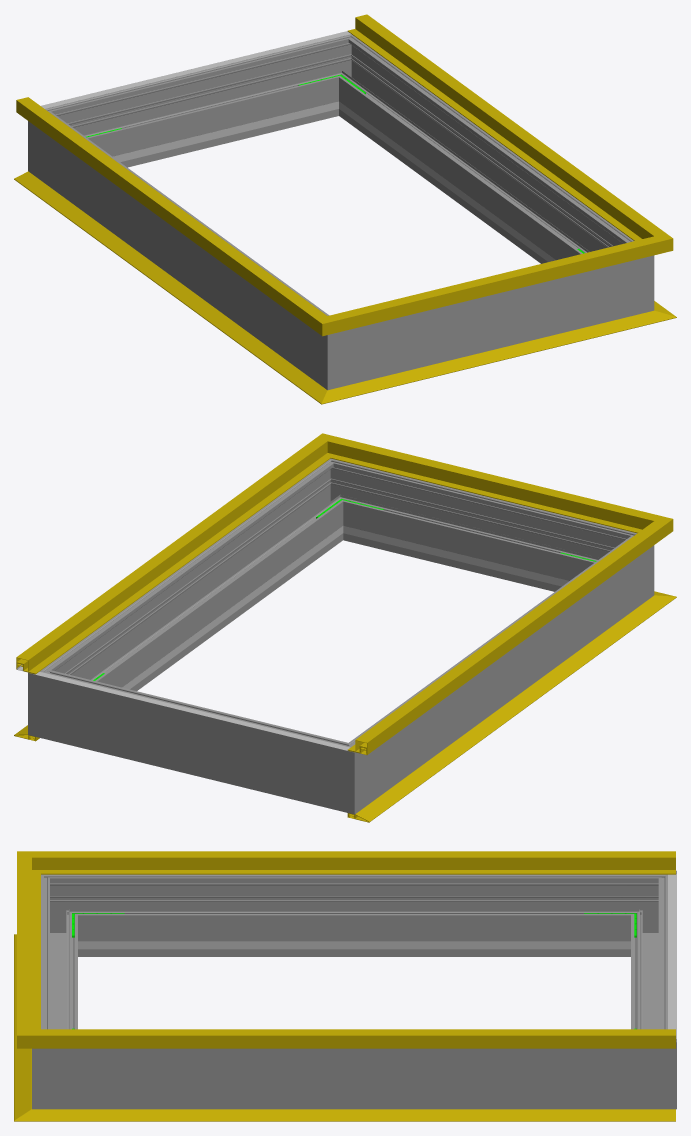
The picture shows the model from 3 angles, top to bottom: view 1: azimuth 30°, elevation 25°; view 2: azimuth 150°, elevation 25°; view 3: azimuth 270°, elevation 25°; orthographic projection. The views are drawn at different scales.
Parts seen in each view (by area): view 1: 3DGeom-298, 3DGeom-277, 3DGeom-269, 3DGeom-299, 3DGeom-128, 3DGeom-118, 3DGeom-38, 3DGeom-123, 3DGeom-271, 3DGeom-28, 3DGeom-285, 3DGeom-291 (+8 smaller); view 2: 3DGeom-298, 3DGeom-299, 3DGeom-277, 3DGeom-269, 3DGeom-128, 3DGeom-118, 3DGeom-123, 3DGeom-38, 3DGeom-279, 3DGeom-285, 3DGeom-291, 3DGeom-271 (+5 smaller); view 3: 3DGeom-269, 3DGeom-298, 3DGeom-118, 3DGeom-128, 3DGeom-30, 3DGeom-233, 3DGeom-277, 3DGeom-299, 3DGeom-285, 3DGeom-291, 3DGeom-123, 3DGeom-279 (+8 smaller).
Boxes of the visible parts, <box> form: 3DGeom-298: <box>343,50,621,263</box>; 3DGeom-277: <box>76,43,331,167</box>; 3DGeom-269: <box>53,124,315,371</box>; 3DGeom-299: <box>372,266,609,379</box>; 3DGeom-128: <box>348,14,646,236</box>; 3DGeom-118: <box>16,97,308,316</box>; 3DGeom-38: <box>14,171,309,385</box>; 3DGeom-123: <box>360,244,628,325</box>; 3DGeom-271: <box>302,306,371,390</box>; 3DGeom-28: <box>358,318,632,393</box>; 3DGeom-285: <box>314,34,372,118</box>; 3DGeom-291: <box>610,231,654,321</box>; 3DGeom-298: <box>61,474,338,690</box>; 3DGeom-299: <box>350,467,605,591</box>; 3DGeom-277: <box>72,677,318,803</box>; 3DGeom-269: <box>366,548,628,795</box>; 3DGeom-128: <box>16,452,316,674</box>; 3DGeom-118: <box>347,535,647,754</box>; 3DGeom-123: <box>355,444,628,528</box>; 3DGeom-38: <box>347,608,651,822</box>; 3DGeom-279: <box>310,730,380,814</box>; 3DGeom-285: <box>28,656,80,745</box>; 3DGeom-291: <box>309,458,367,542</box>; 3DGeom-271: <box>588,525,654,613</box>; 3DGeom-269: <box>87,874,621,956</box>; 3DGeom-298: <box>87,1048,621,1109</box>; 3DGeom-118: <box>72,851,675,874</box>; 3DGeom-128: <box>72,1029,675,1048</box>; 3DGeom-30: <box>69,1109,675,1121</box>; 3DGeom-233: <box>131,941,577,949</box>; 3DGeom-277: <box>631,894,667,1029</box>; 3DGeom-299: <box>41,894,77,1029</box>; 3DGeom-285: <box>621,1019,676,1109</box>; 3DGeom-291: <box>32,1019,86,1109</box>; 3DGeom-123: <box>17,874,40,1024</box>; 3DGeom-279: <box>621,870,676,956</box>.
Size of the model in its own units: 1.22 by 0.2596 by 1.83.
